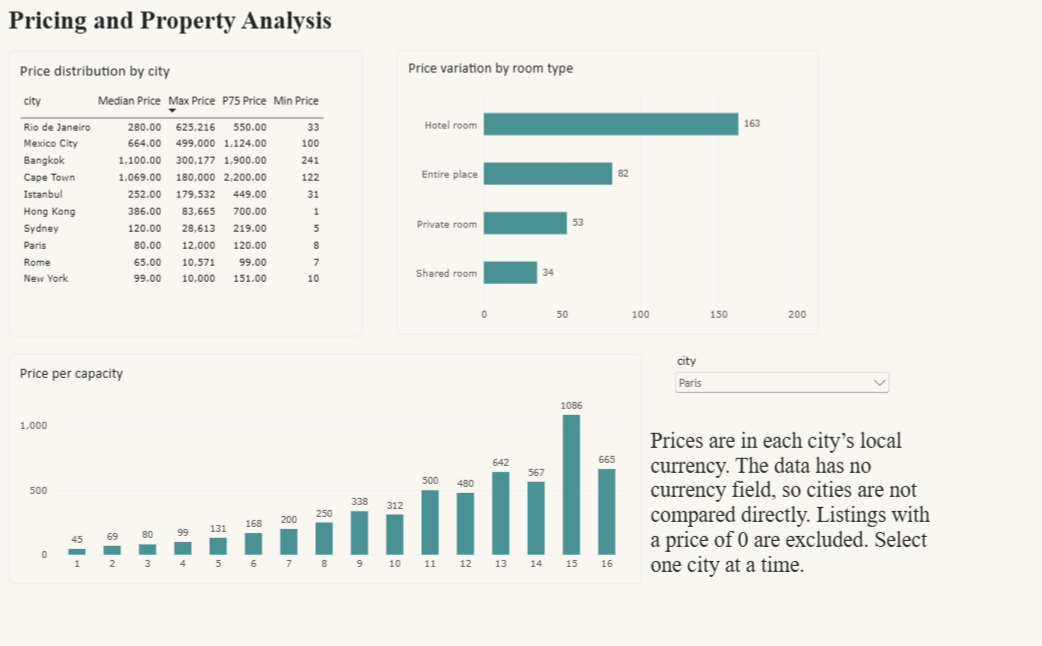

Layout of this report page (visuals, bound fields, positions):
{"tool":"powerbi","page":{"name":"Pricing and Property","canvas":[1920,1080],"ordinal":1},"visuals":[{"type":"tableEx","title":"Price distribution by city","fields":{"Values":["Listings.city","Listings.Median Price","Listings.Max Price","Listings.P75 Price","Listings.Min Price"]},"box":[22.2,91.1,546.7,420],"z":0},{"type":"slicer","fields":{"Values":["Listings.city"]},"box":[1005,540,327.5,90],"z":1000},{"type":"clusteredBarChart","title":"Price variation by room type","fields":{"Category":["Listings.room_type"],"Y":["Listings.Median Price"]},"box":[598,88,624,422],"z":2000},{"type":"clusteredColumnChart","title":"Price per capacity","fields":{"Category":["Listings.accommodates"],"Y":["Listings.Median Price"]},"box":[22,540,938,340],"z":3000},{"type":"textbox","box":[974,648,428,232],"z":4000},{"type":"textbox","box":[22,24,938,64],"z":5000}]}

Visuals, with their boxes on the page's 1920x1080 design canvas (x1, y1, x2, y2). These are canvas units, not pixel positions in the 1042x646 screenshot, which may show the page scaled, cropped or inside an application window:
"Price distribution by city" tableEx: box(22, 91, 569, 511)
slicer - Listings.city: box(1005, 540, 1332, 630)
"Price variation by room type" clusteredBarChart: box(598, 88, 1222, 510)
"Price per capacity" clusteredColumnChart: box(22, 540, 960, 880)
textbox: box(974, 648, 1402, 880)
textbox: box(22, 24, 960, 88)
